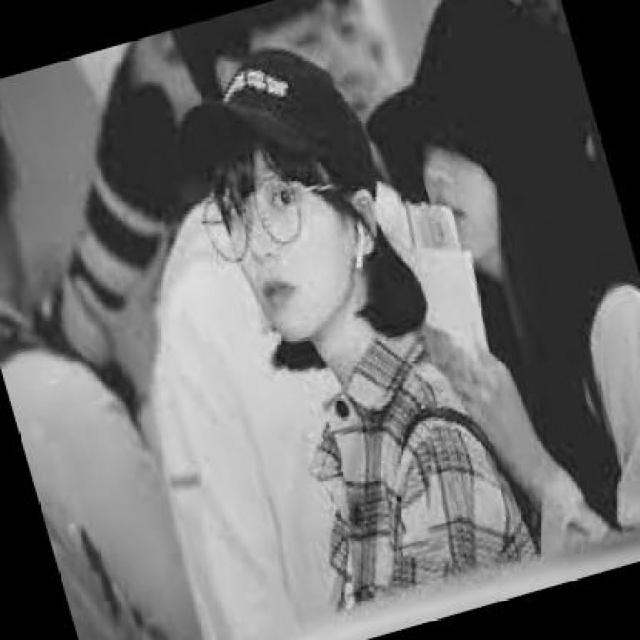earphone: (333, 192, 381, 285)
